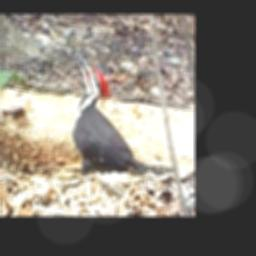Woodpecker: (72, 55, 164, 176)
